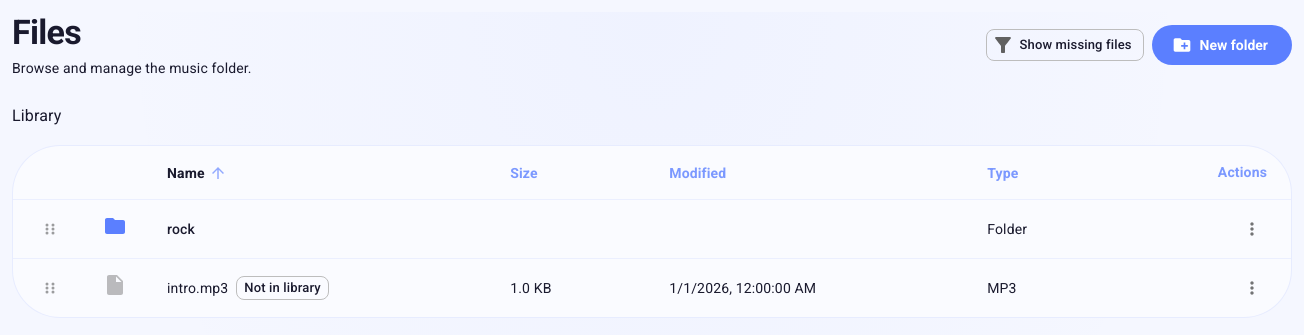
Files Page › navigates into a folder via breadcrumbs
Click the text "rock" at [319, 229], box [147,199,490,258]
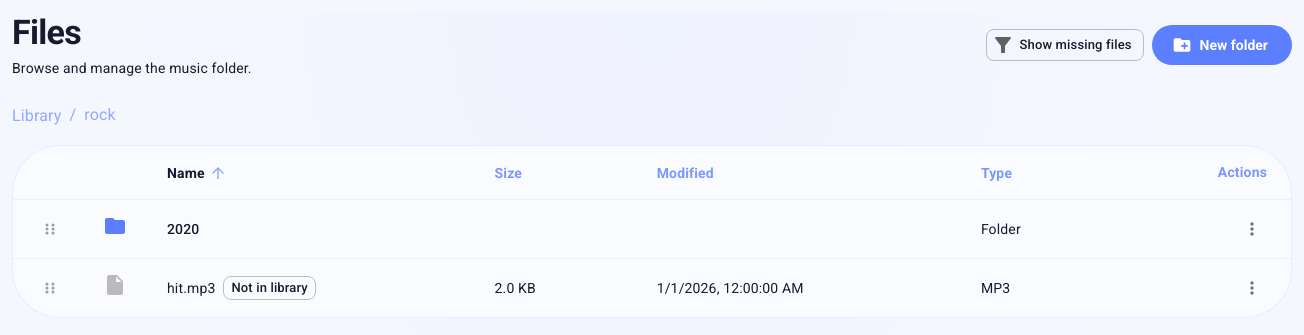
Expected: the text "hit.mp3" is shown, [167,278,216,298]
Expected: the text "2020" is shown, [147,199,474,258]
Click the button "Library" at [37, 116], box [12,103,62,129]
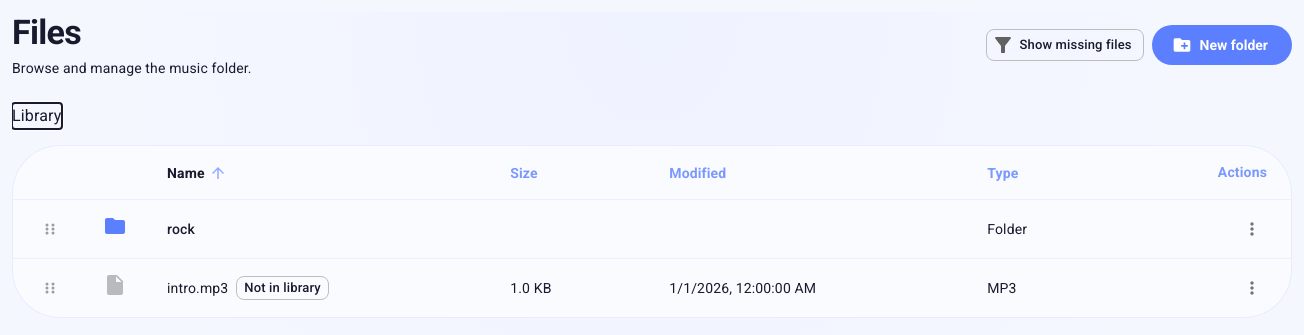
Expected: the text "intro.mp3" is shown, [167,278,228,298]
